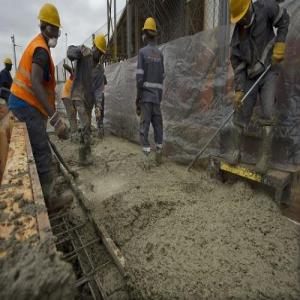yellow: (40, 6, 62, 50), (231, 2, 255, 28), (143, 18, 159, 45), (93, 35, 108, 62), (5, 57, 14, 73)
